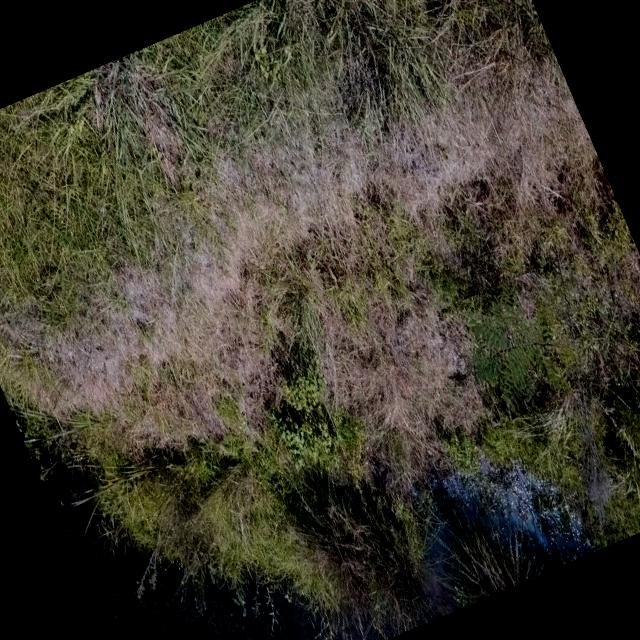Mysore-Thorn-Weed: (442, 266, 592, 427)
